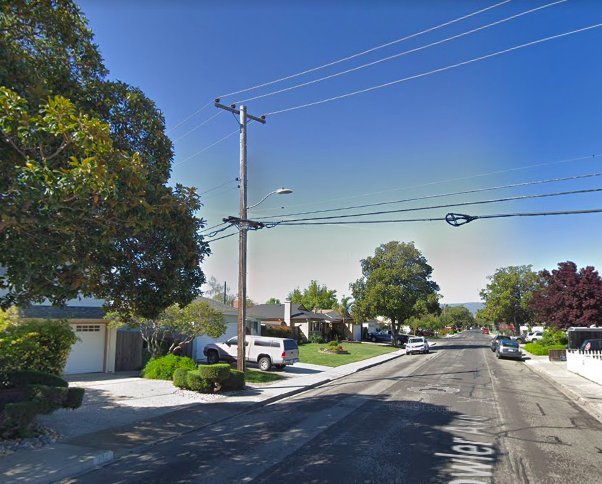utility_pole: (205, 88, 273, 157)
